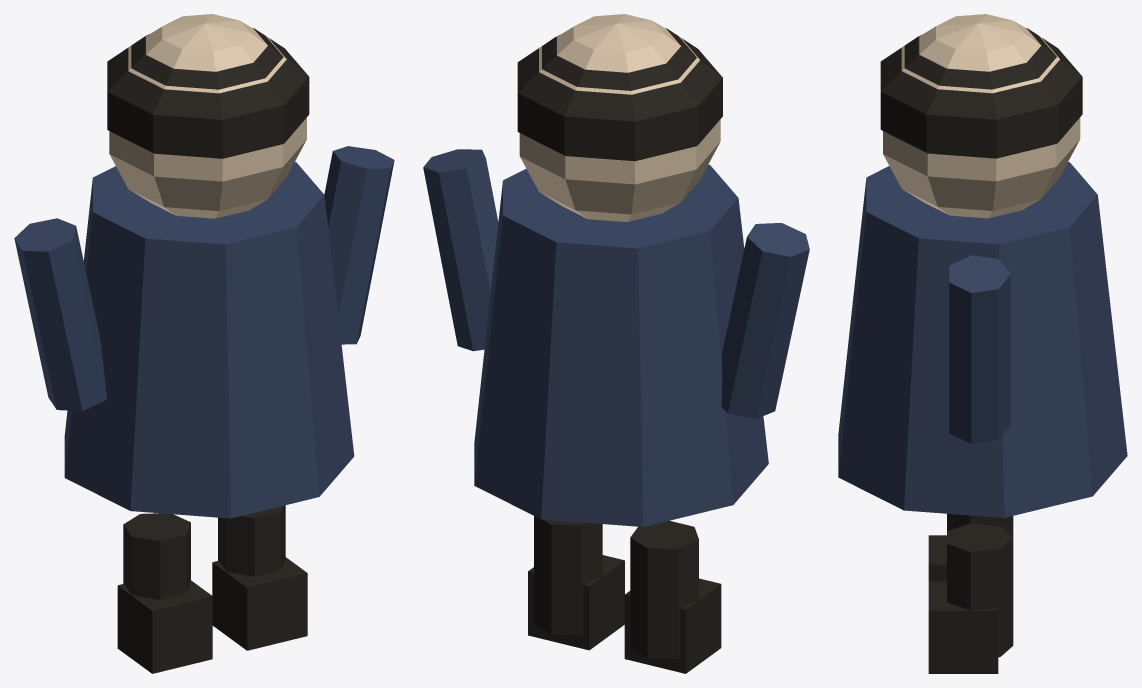
Rendered from crew.glb.
3 renders of one model, left to right at view 1: azimuth 30°, elevation 25°; view 2: azimuth 150°, elevation 25°; view 3: azimuth 270°, elevation 25°, orthographic.
Visible parts, largest first — view 1: Cone, Sphere.001, Sphere, Cylinder.003, Cylinder.004, Cube.001, Cube, Cylinder.001, Cylinder.002; view 2: Cone, Sphere.001, Sphere, Cylinder.003, Cylinder.004, Cylinder.001, Cylinder.002, Cube, Cube.001; view 3: Cone, Sphere.001, Sphere, Cylinder.004, Cylinder.002, Cube.001, Cube, Cylinder.001.
Boxes of the visible parts, <box> form: Cone: <box>64,162,354,518</box>; Sphere.001: <box>107,28,309,158</box>; Sphere: <box>109,14,306,218</box>; Cylinder.003: <box>14,218,106,410</box>; Cylinder.004: <box>324,146,394,344</box>; Cube.001: <box>212,557,307,650</box>; Cube: <box>117,580,212,673</box>; Cylinder.001: <box>123,513,190,599</box>; Cylinder.002: <box>218,505,285,576</box>; Cone: <box>474,164,768,526</box>; Sphere.001: <box>517,28,722,161</box>; Sphere: <box>519,14,720,221</box>; Cylinder.003: <box>721,223,809,418</box>; Cylinder.004: <box>423,149,498,351</box>; Cylinder.001: <box>630,520,698,659</box>; Cylinder.002: <box>534,516,602,635</box>; Cube: <box>624,578,721,673</box>; Cube.001: <box>528,555,624,650</box>; Cone: <box>838,162,1127,517</box>; Sphere.001: <box>880,28,1082,158</box>; Sphere: <box>883,14,1080,218</box>; Cylinder.004: <box>949,255,1010,443</box>; Cylinder.002: <box>947,523,1013,657</box>; Cube.001: <box>928,581,998,673</box>; Cube: <box>928,535,946,581</box>; Cylinder.001: <box>947,513,1013,537</box>.
Size of the model in its own units: 0.863 by 1.36 by 0.5819.
